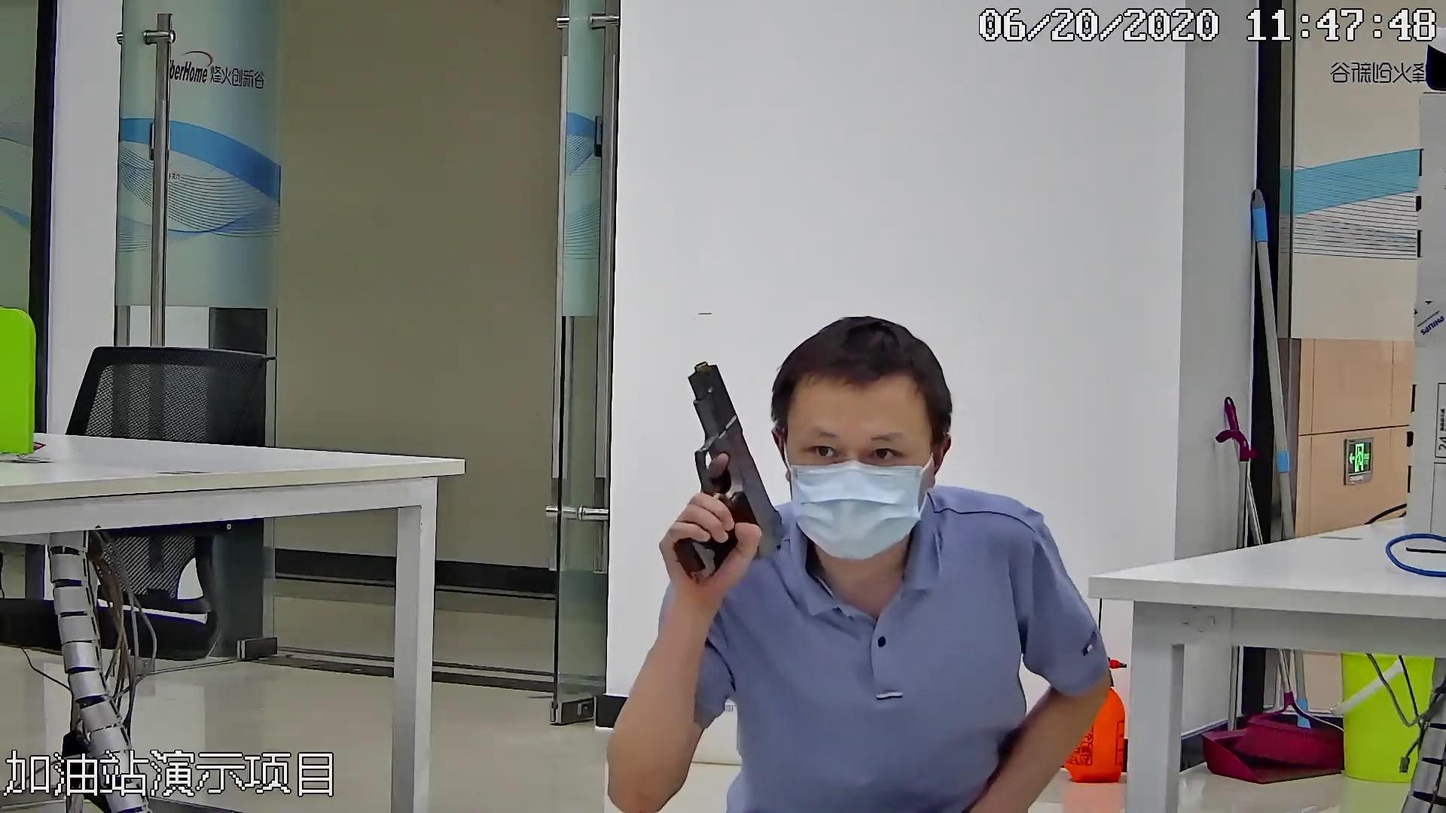gun: (674, 358, 793, 583)
